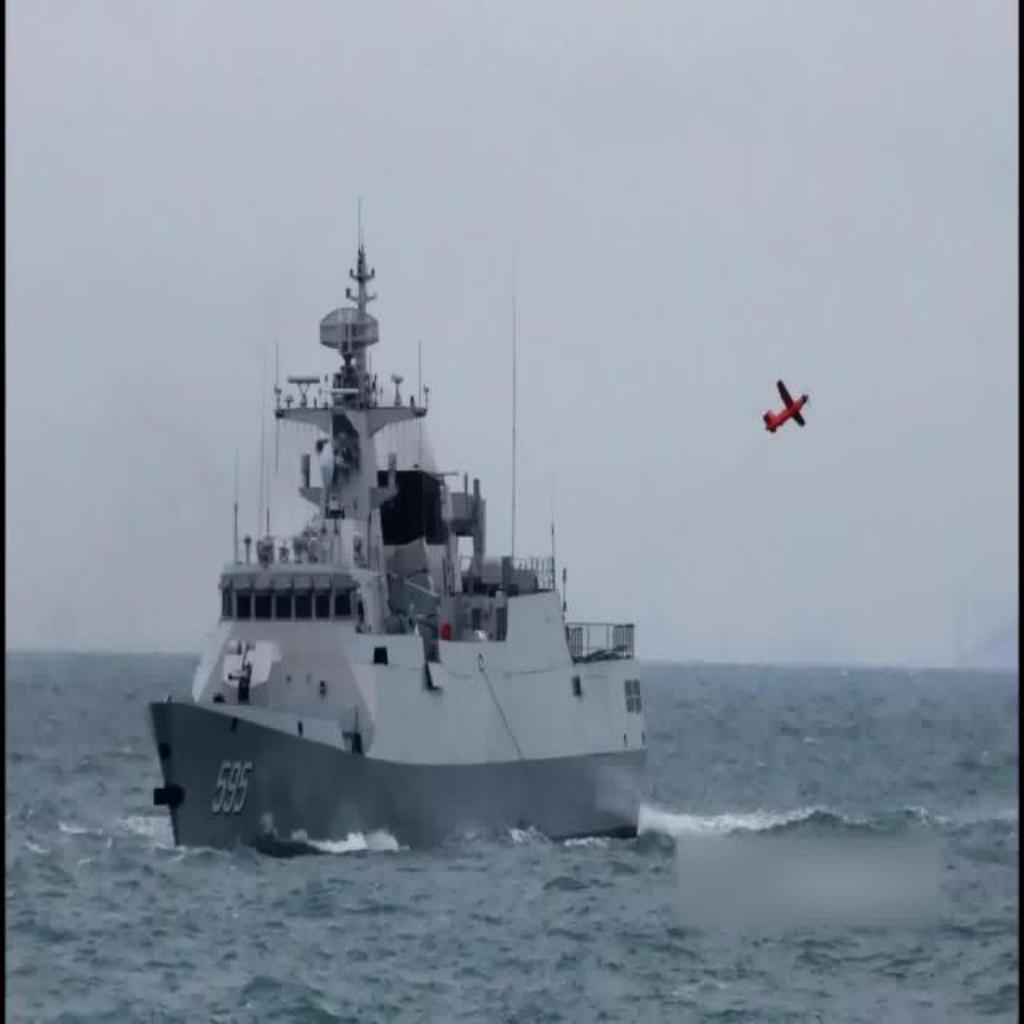Warship: (148, 210, 654, 850)
